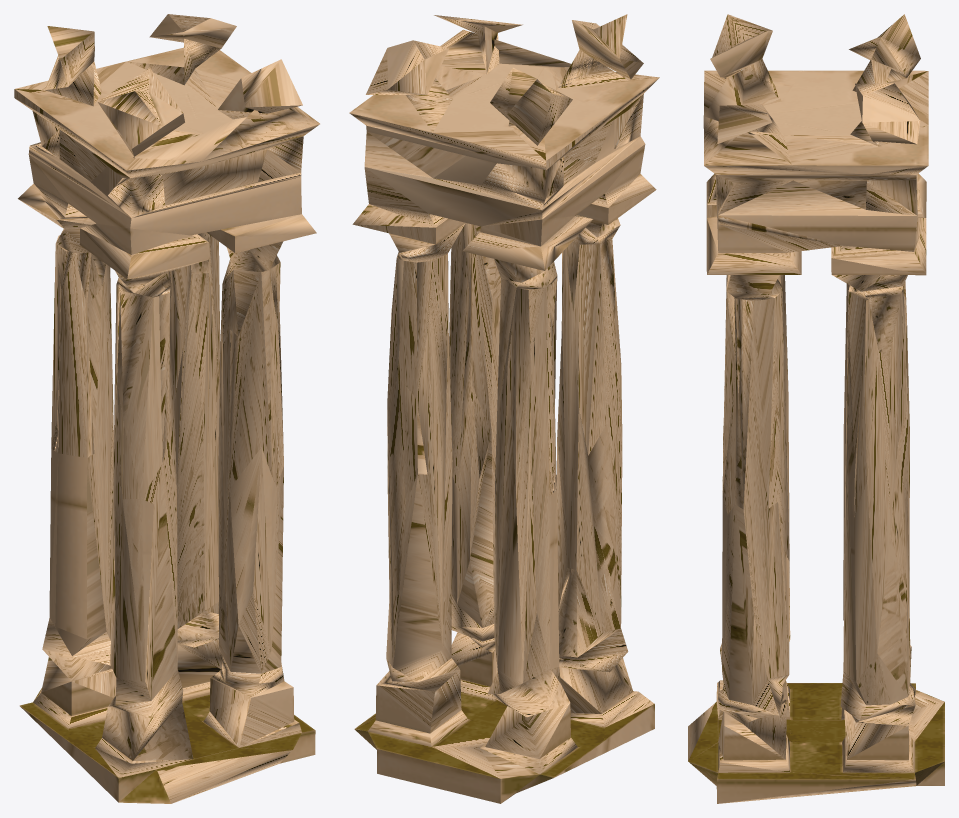
File: cover_full_temple_v1_lod1.glb
3 renders of one model, left to right at view 1: azimuth 30°, elevation 25°; view 2: azimuth 150°, elevation 25°; view 3: azimuth 270°, elevation 25°, orthographic.
Bounding box in the file's own units: 0.5563 × 1.9 × 0.6268.
Materials: 1 (1 with a texture image).
